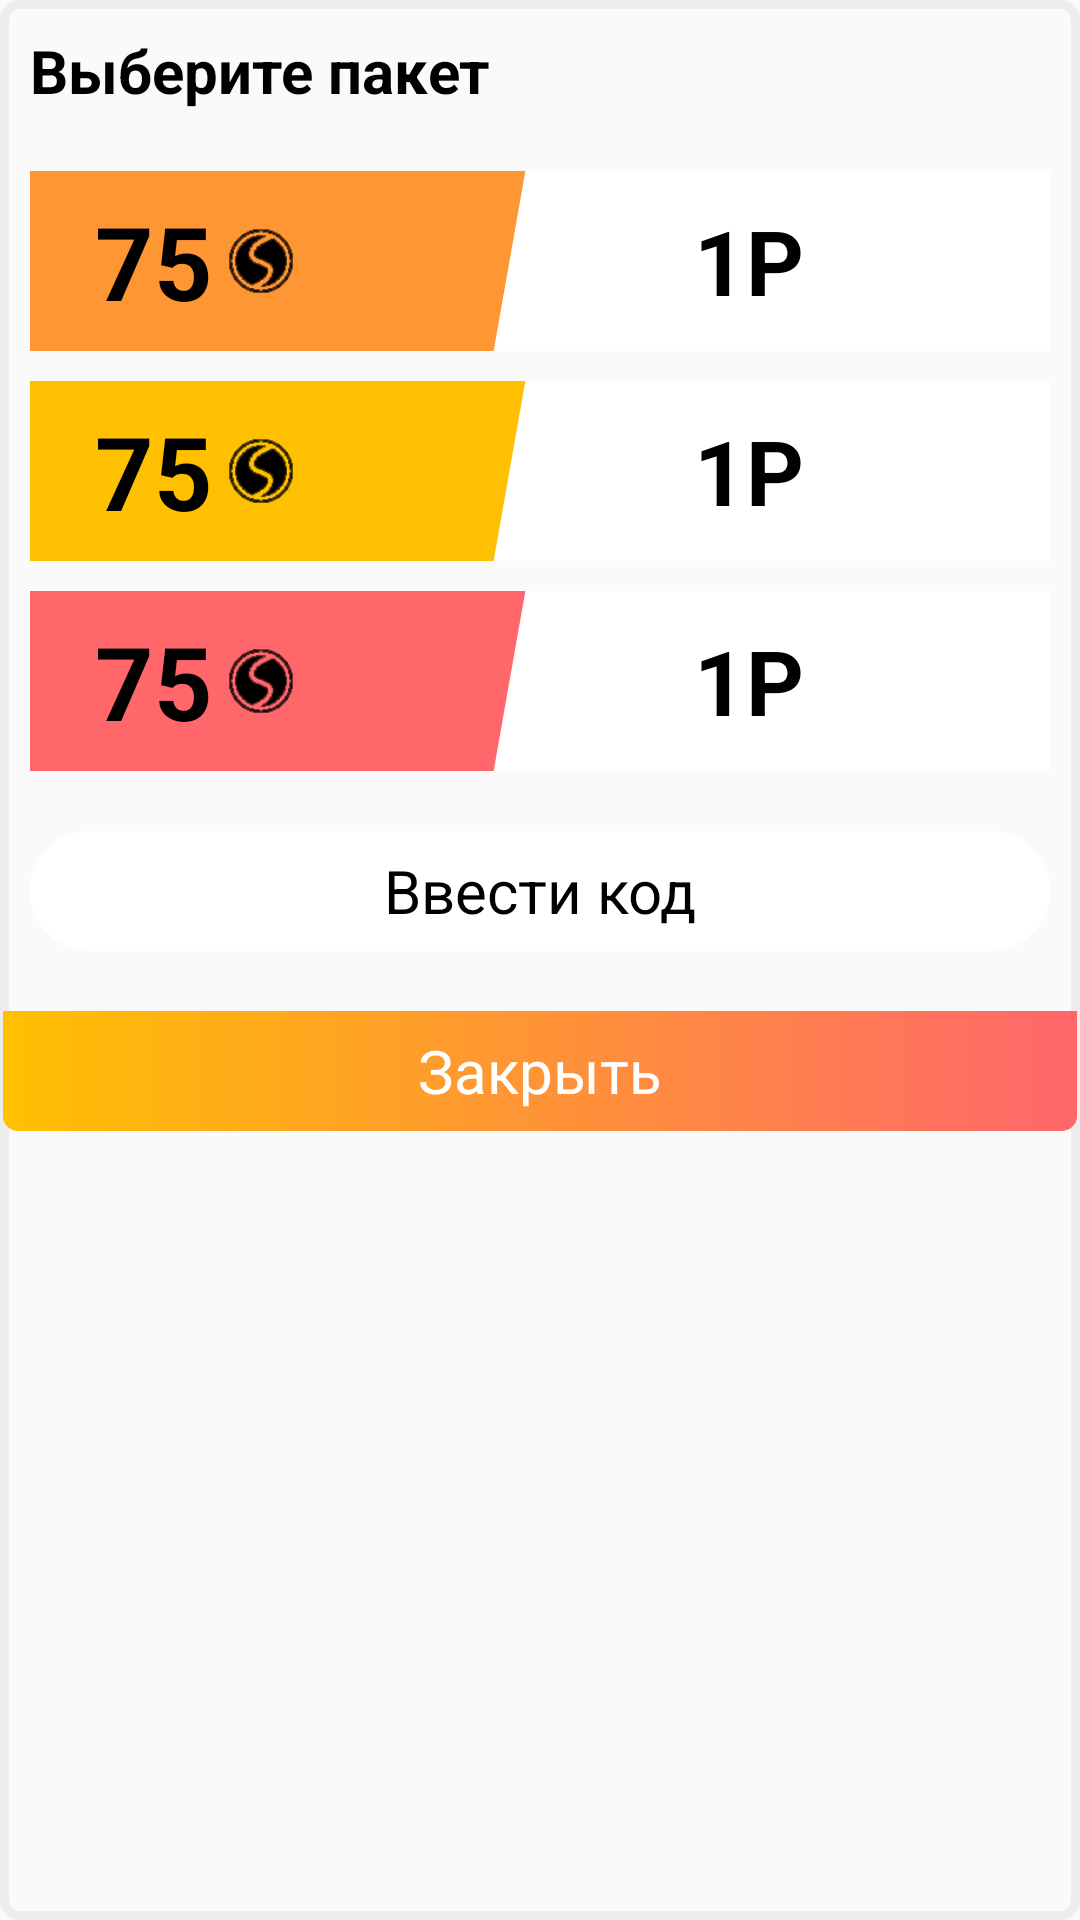

Named icons in this screenshot (1080×1920) and their bounding boxes, (x1, y1, x2, y2):
coins: (229, 229, 293, 293), (229, 439, 293, 503), (229, 649, 293, 713)
